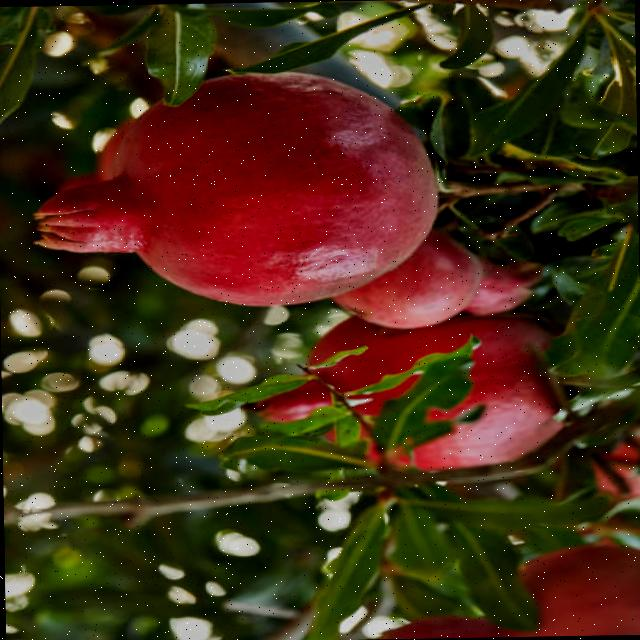Ripe: (32, 64, 442, 313)
